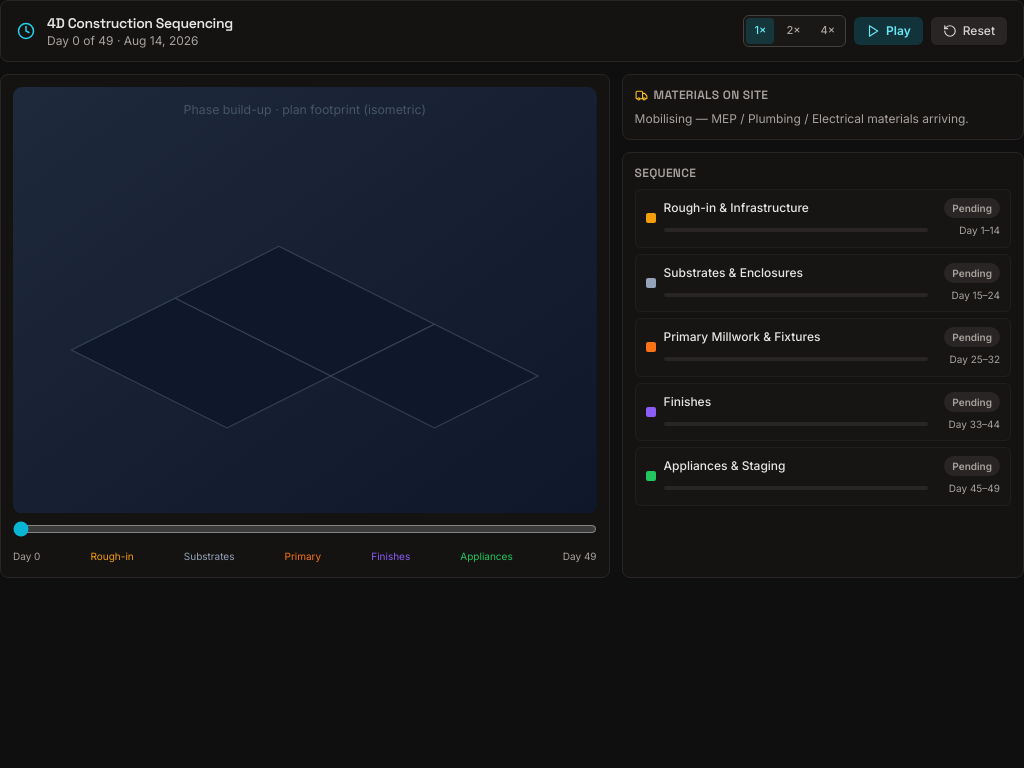
Test: ConstructionSequenceView › renders all five layers when scrubbed to the final day
Set the slider named "Construction timeline" to "49". click: [589, 530]
box: [13,522,597,538]
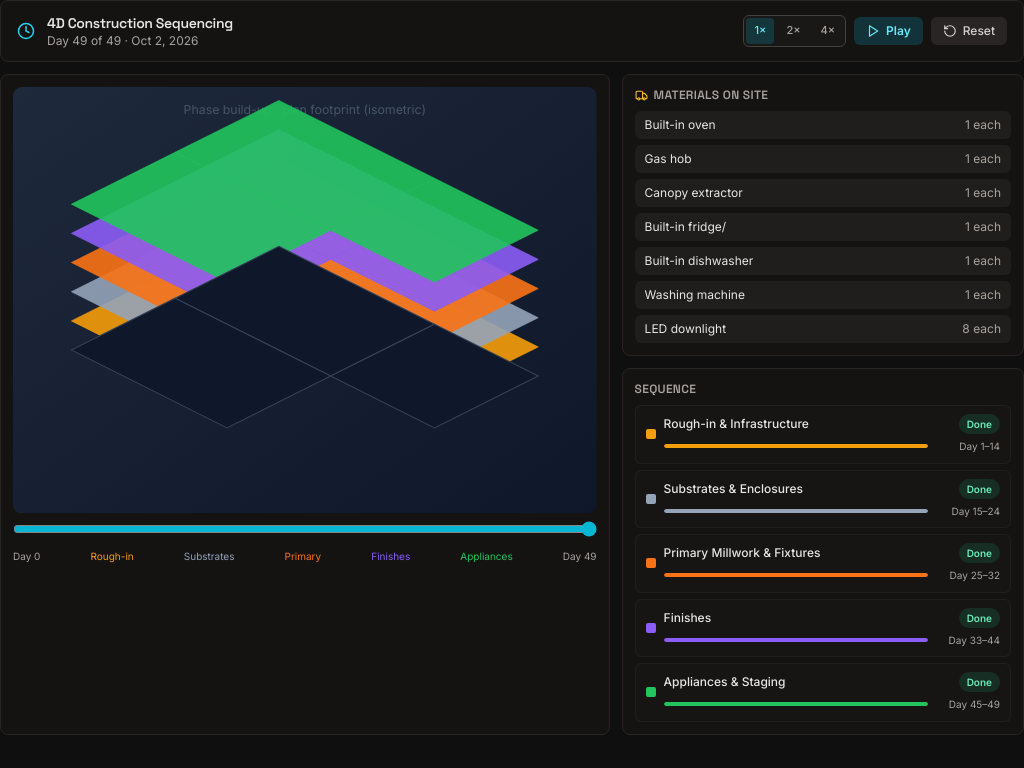
Now the text "Day 49 of 49 · Oct 2, 2026" is shown, box [47,33,198,48]
